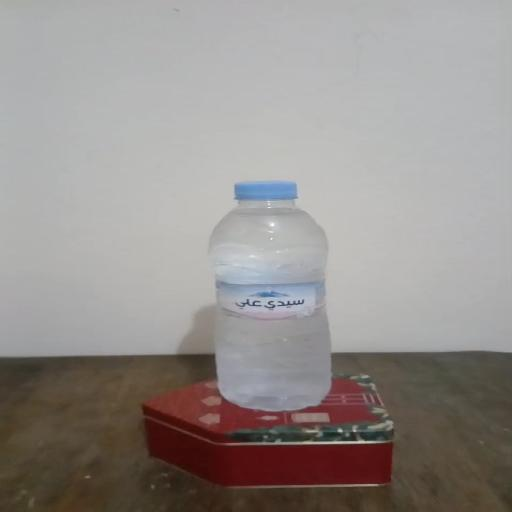bouteille conformite: (196, 159, 382, 412)
